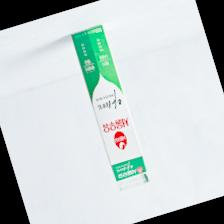milk: (68, 22, 150, 192)
